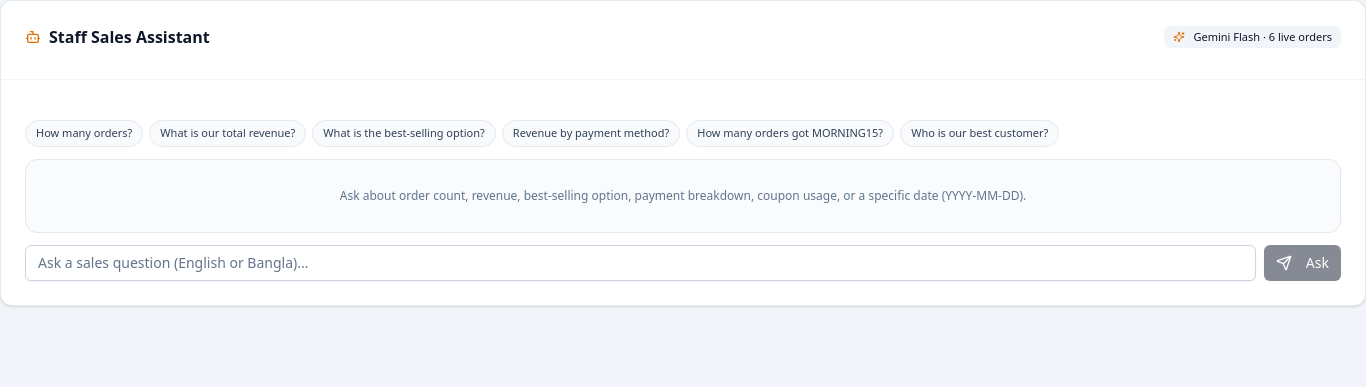
SalesAssistantPanel UI › reflects new checkout count immediately without reload (TC-18) and handles TC-20
The width and height of the screenshot is (1366, 387).
Later steps or results of the test are not shown.
Click the button "How many orders?" at [84, 133], box [25,120,143,146]
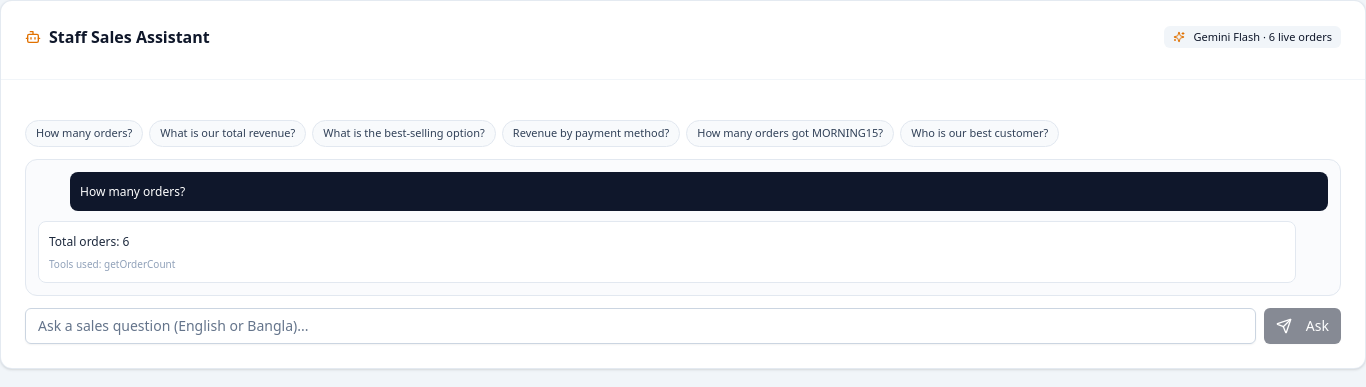
Expected: the text "Total orders: 6" is shown, [49,233,129,250]
